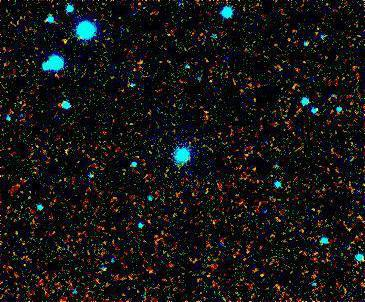star: (49, 27, 79, 57)
